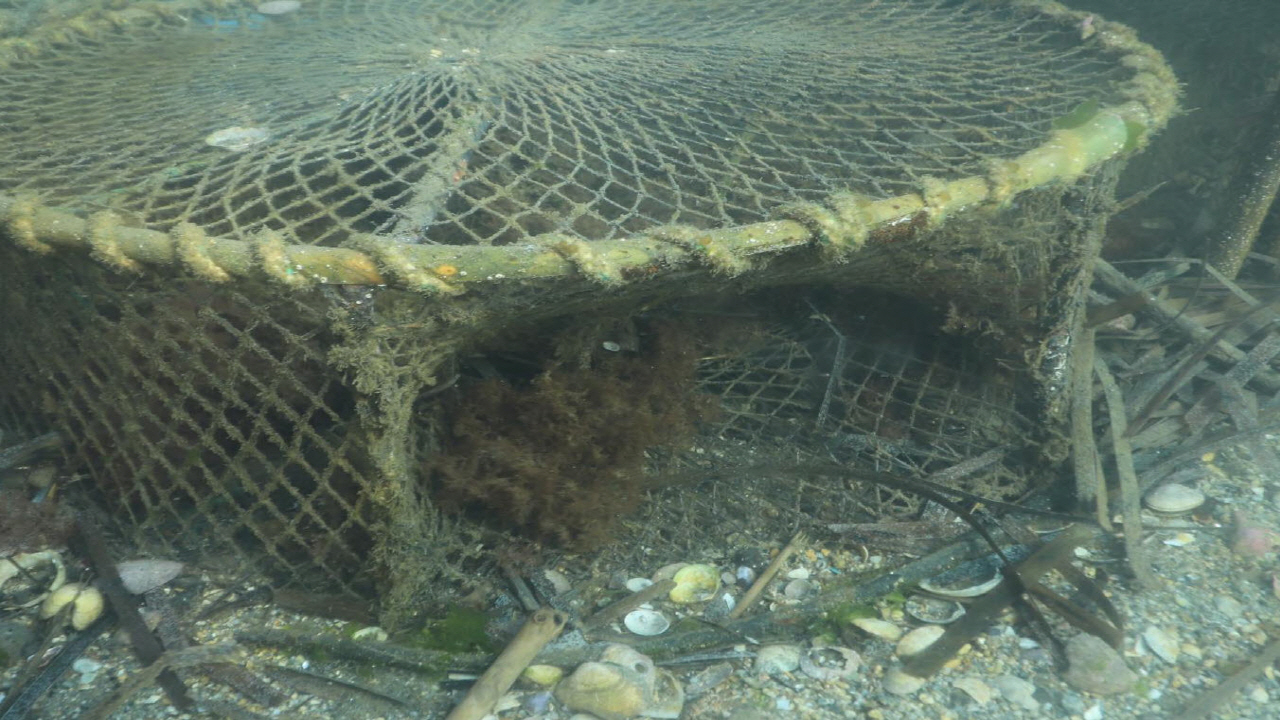circular fish trap: (0, 0, 1182, 615)
